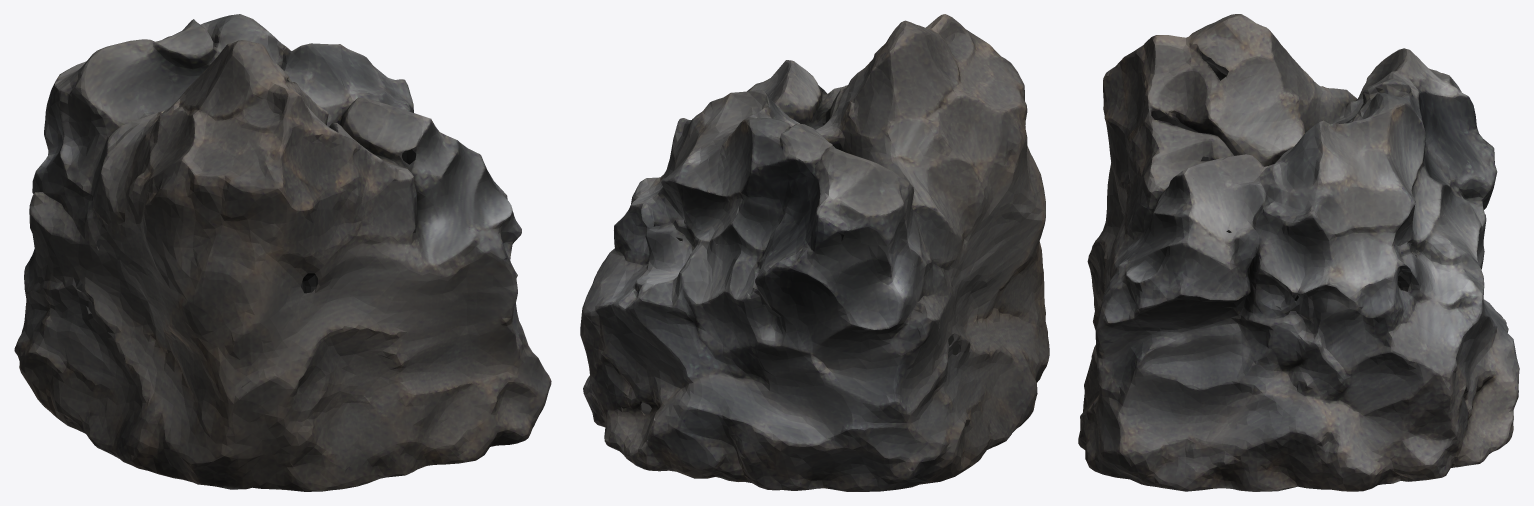
3 renders of one model, left to right at view 1: azimuth 30°, elevation 25°; view 2: azimuth 150°, elevation 25°; view 3: azimuth 270°, elevation 25°, orthographic. The views are drawn at different scales.
Visible parts, largest first — view 1: world; view 2: world; view 3: world.
Part boxes in pixels (left/top/right/bottom): world: left=14, top=14, right=551, bottom=491; world: left=580, top=14, right=1049, bottom=491; world: left=1078, top=14, right=1519, bottom=491.
Bounding box in the file's own units: 0.8476 × 0.7878 × 0.8644.
1 material, 1 textured.
